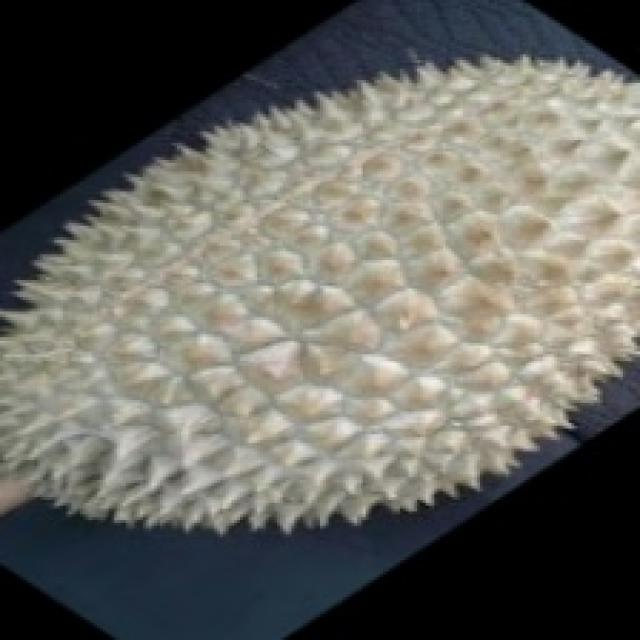d2: (1, 66, 640, 522)
